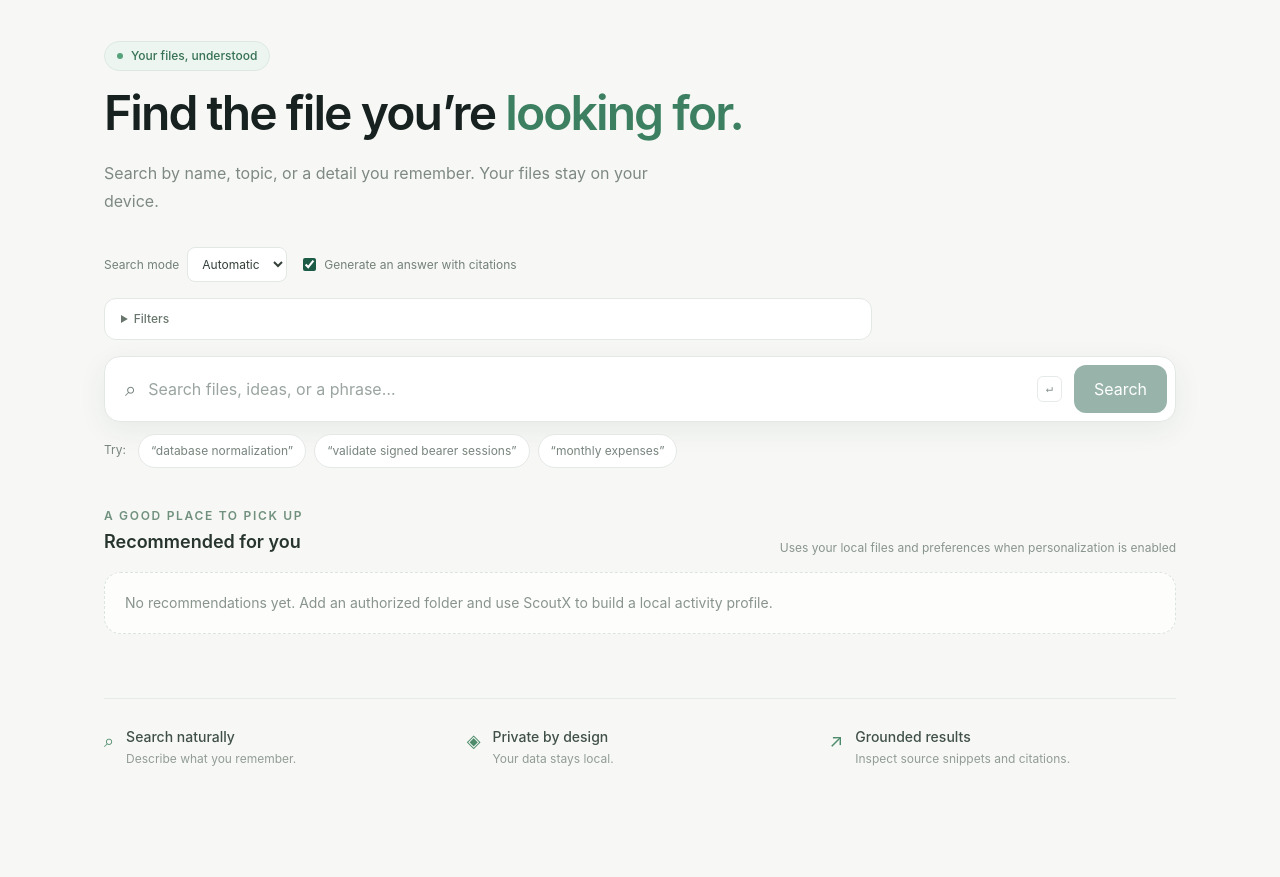
Test case: SearchPage › submits a natural-language query and renders ranked files and answer
In the field named "Search your files": [586, 389] box [148,365,1025,413], type "where is the total?"
Then press Enter
(page scrolled)
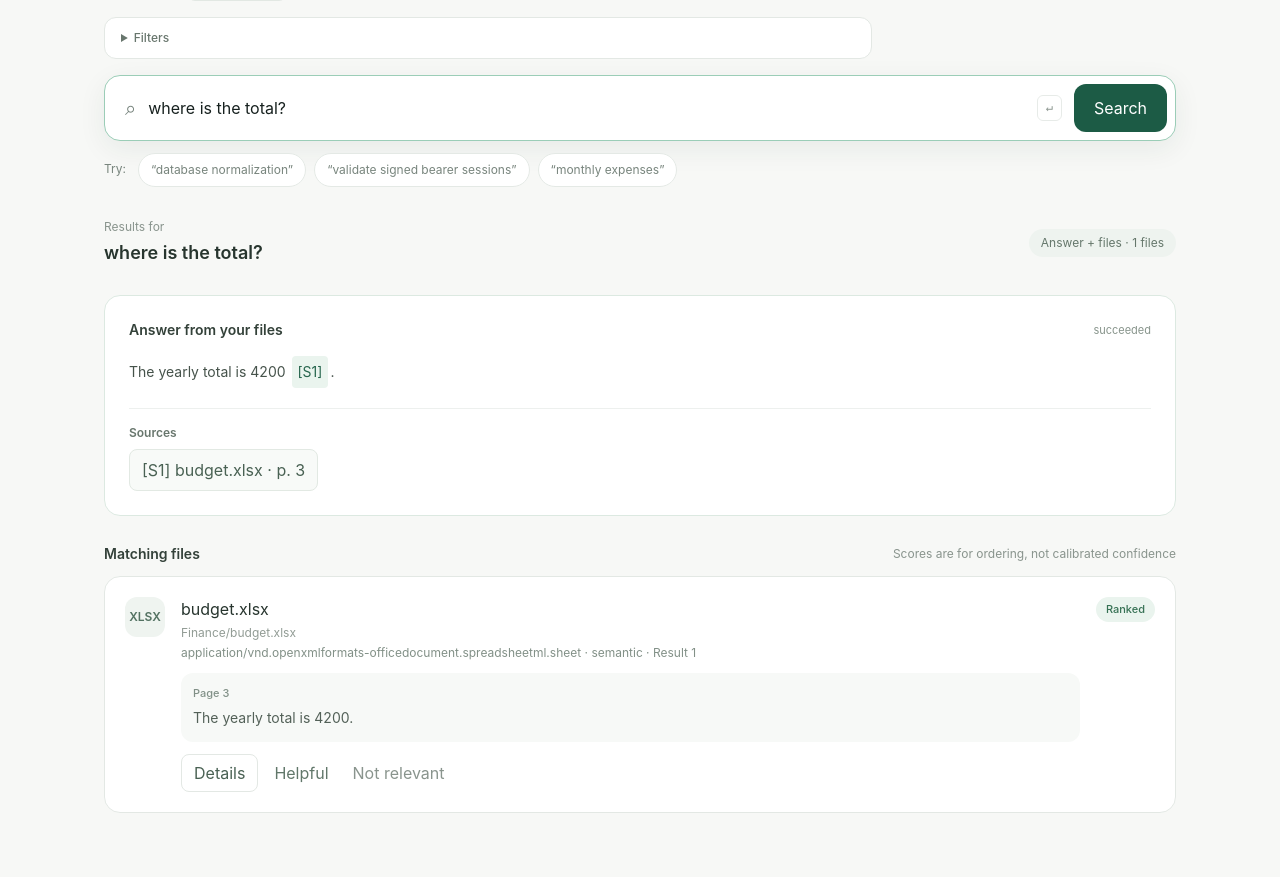
expect the text "The yearly total is 4200" is shown: met, box [129,363,290,380]
expect the button "budget.xlsx" is shown: met, box [181,597,269,621]
